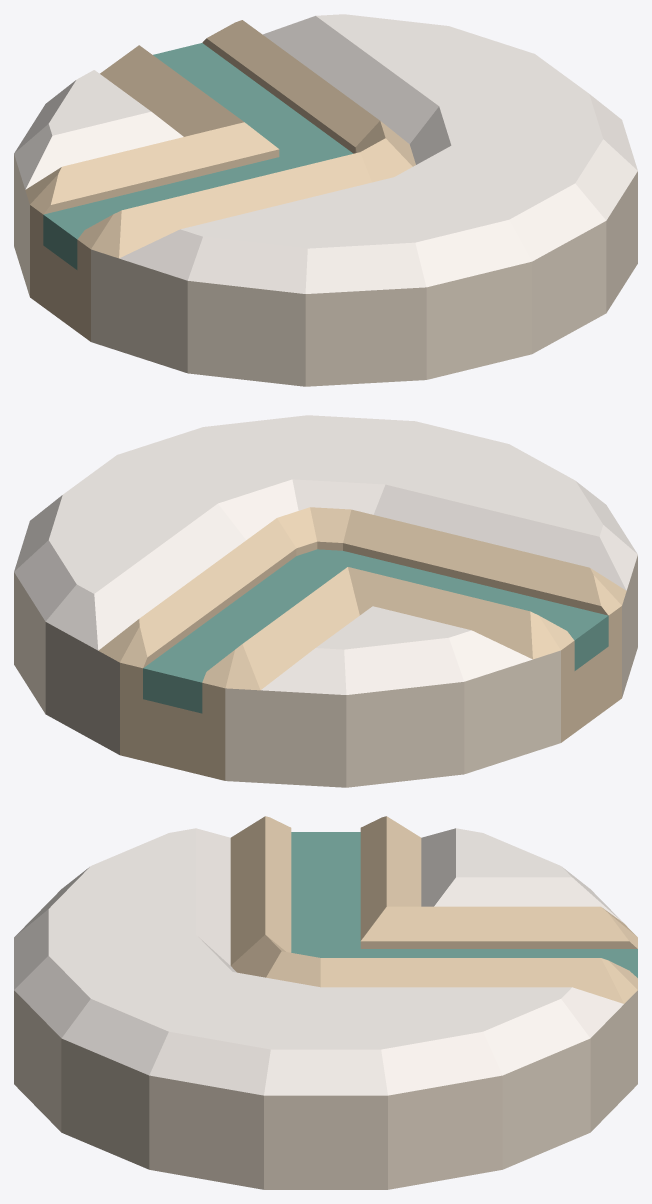
Rendered from Puzzle_Floor_Conduit_Rotating_Platform_Corner.glb.
The picture shows the model from 3 angles, top to bottom: view 1: azimuth 30°, elevation 25°; view 2: azimuth 150°, elevation 25°; view 3: azimuth 270°, elevation 25°; orthographic projection.
Visible parts, largest first — view 1: Puzzle_Floor_Conduit_Rotating_Platform_Corner; view 2: Puzzle_Floor_Conduit_Rotating_Platform_Corner; view 3: Puzzle_Floor_Conduit_Rotating_Platform_Corner.
Boxes of the visible parts, left/top/right/bottom form: Puzzle_Floor_Conduit_Rotating_Platform_Corner: left=14, top=14, right=637, bottom=386; Puzzle_Floor_Conduit_Rotating_Platform_Corner: left=14, top=415, right=637, bottom=787; Puzzle_Floor_Conduit_Rotating_Platform_Corner: left=14, top=816, right=637, bottom=1189.
Bounding box in the file's own units: 0.9 × 0.2 × 0.9.
